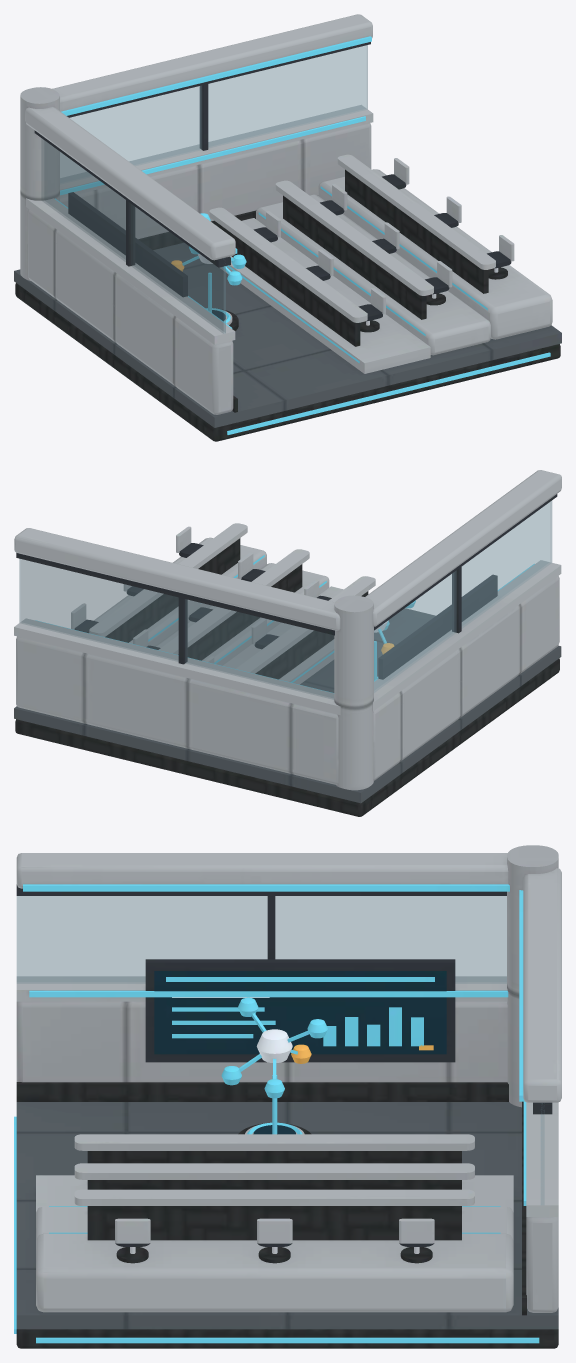
The model's file is enterprise_academy.glb.
The picture shows the model from 3 angles, top to bottom: view 1: azimuth 30°, elevation 25°; view 2: azimuth 150°, elevation 25°; view 3: azimuth 270°, elevation 25°; orthographic projection. The views are drawn at different scales.
Parts seen in each view (by area): view 1: te_enterprise_academy, move_sensor; view 2: te_enterprise_academy; view 3: te_enterprise_academy, move_sensor.
Part boxes in pixels (x1=…): te_enterprise_academy: x1=14, y1=14, x2=561, y2=441; move_sensor: x1=171, y1=213, x2=246, y2=285; te_enterprise_academy: x1=14, y1=470, x2=561, y2=816; te_enterprise_academy: x1=14, y1=845, x2=561, y2=1348; move_sensor: x1=221, y1=997, x2=327, y2=1098.
Size of the model in its own units: 0.849 by 0.472 by 0.849.
2 materials, 1 textured.
